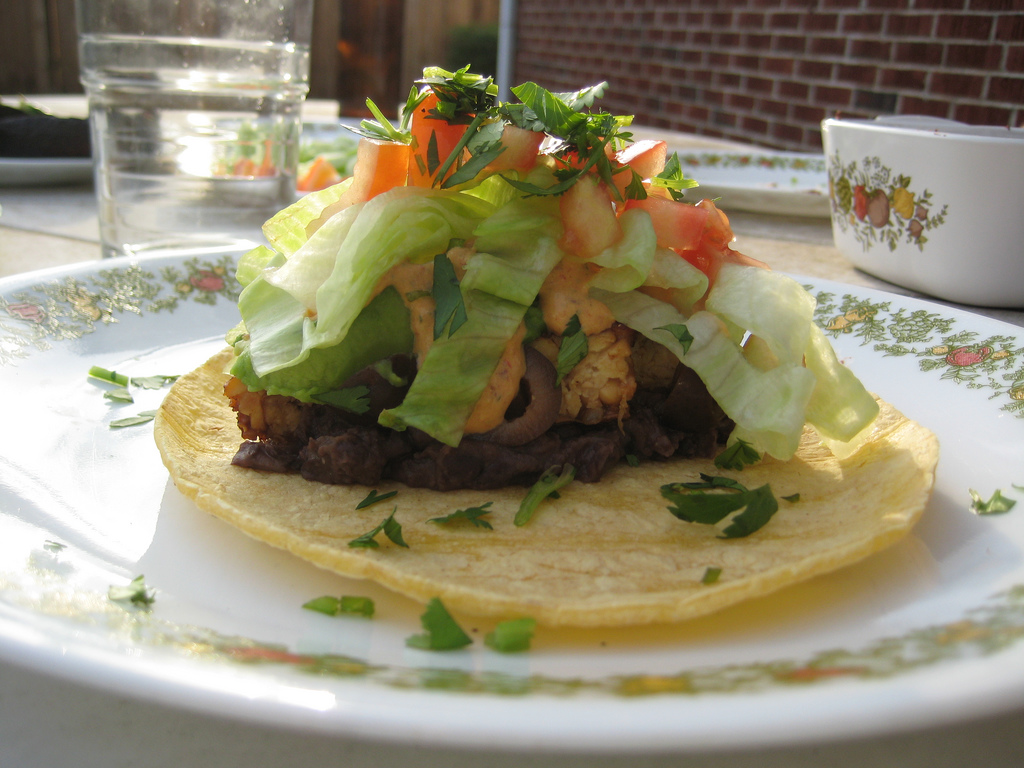chopped lettuce: (647, 294, 837, 399), (299, 199, 455, 268)
